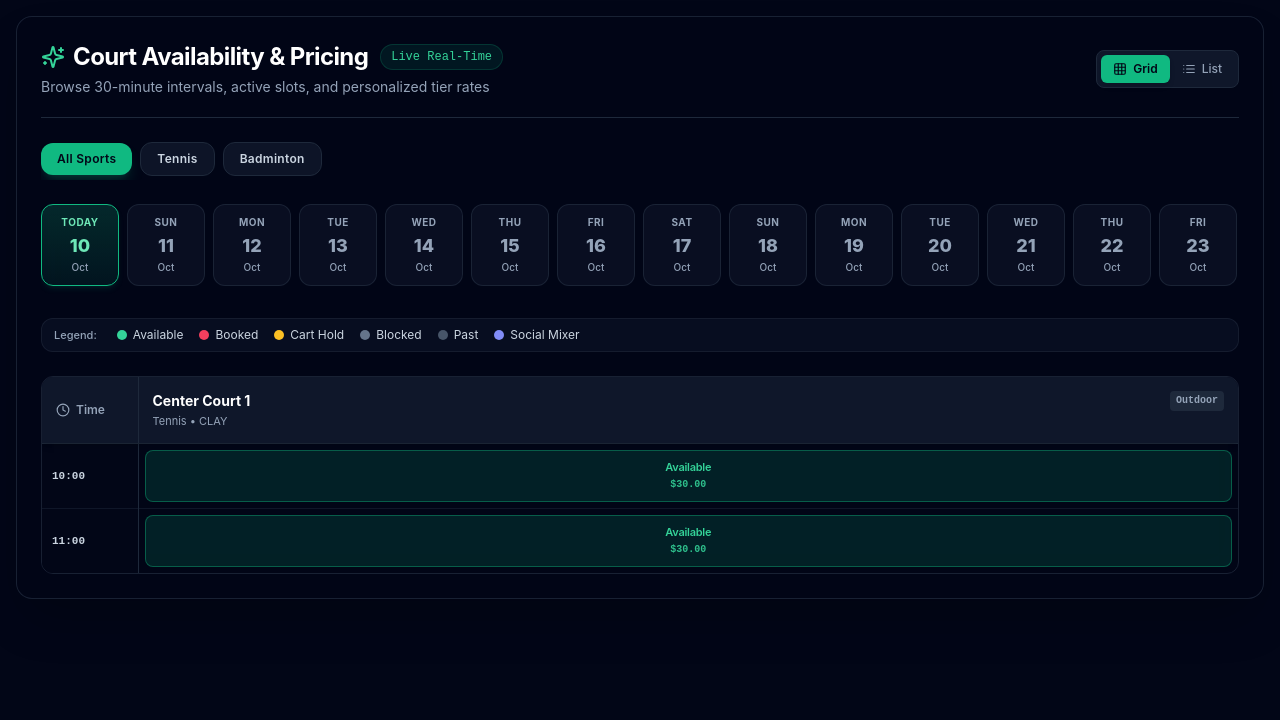
Test case: Booking Engine Frontend Suite › CourtBookingPage - Member Booking Flow & Hold Timer › initiates 5-minute slot hold and displays live countdown badge
expect the text "Center Court 1" is shown: met, box [152,391,250,411]
Click the button "Available $30.00" next to "10:00": (688, 476) [144,450,1232,502]
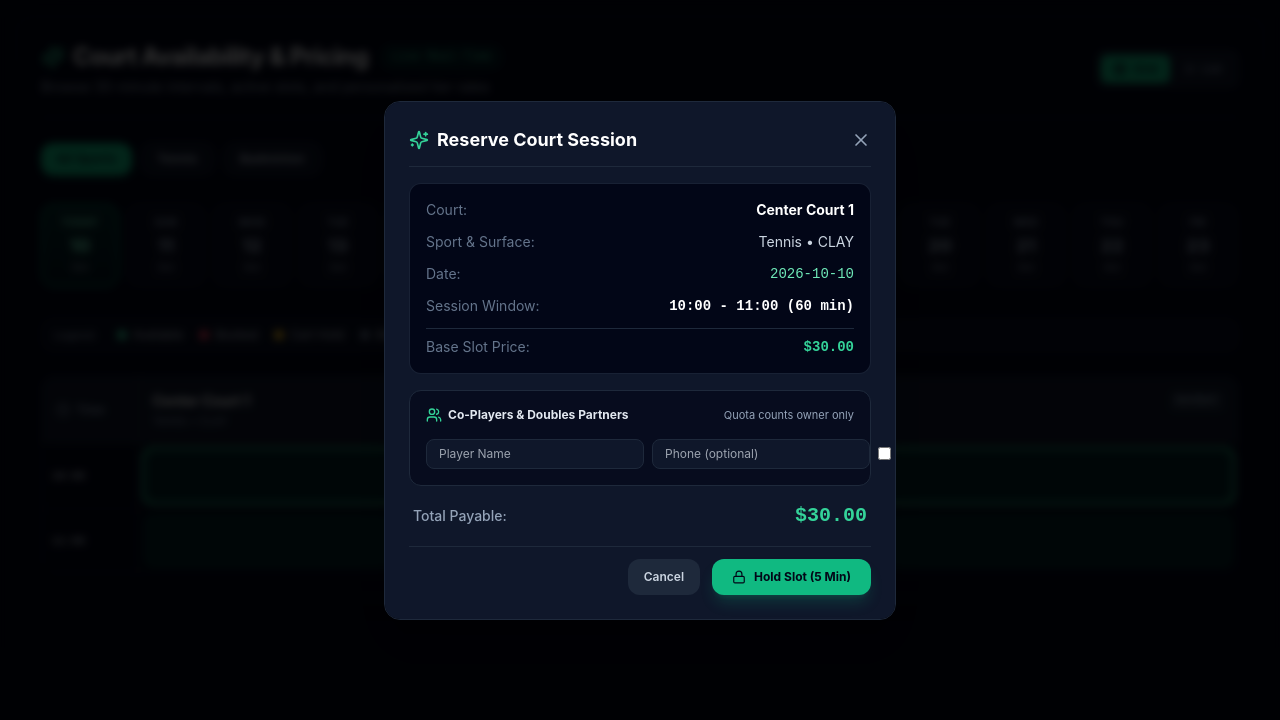
expect the heading "Reserve Court Session" is shown: met, box [409,126,637,154]
Click Hold Slot button
Click the button "Hold Slot (5 Min)": (792, 576) [712,558,871,594]
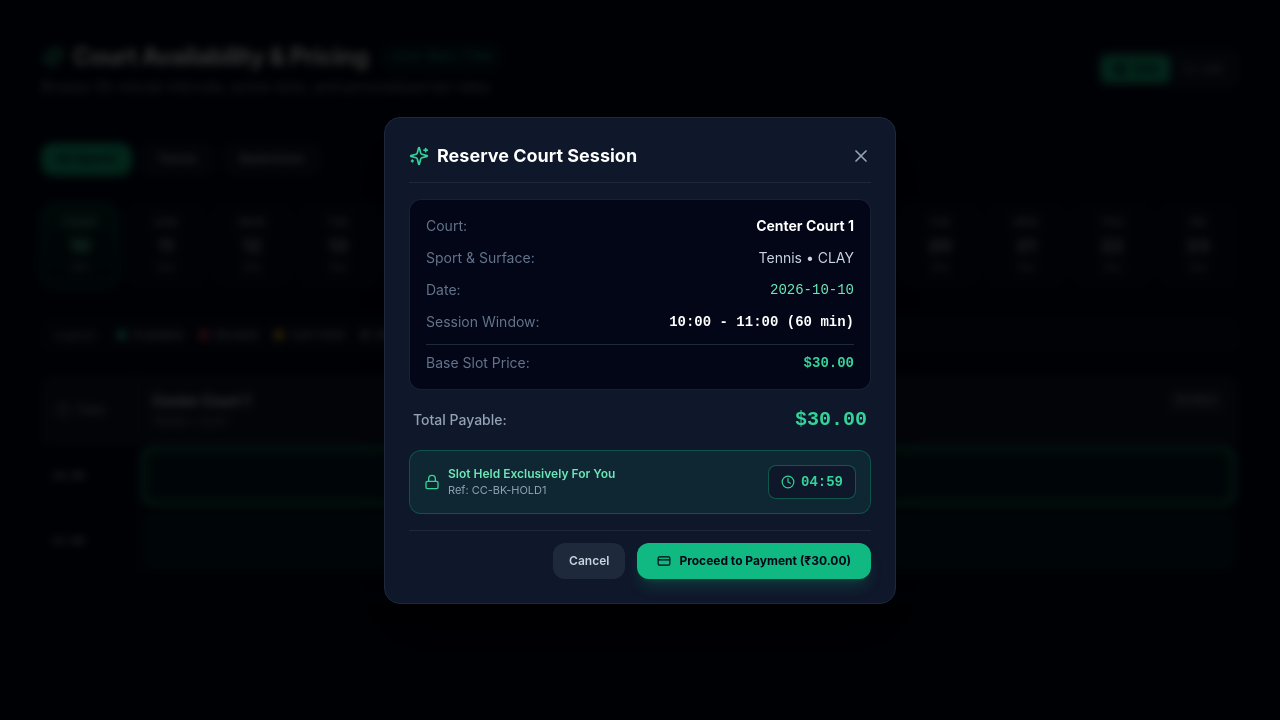
expect the text "Slot Held Exclusively For You" is shown: met, box [448,466,615,482]
expect the text "Ref: CC-BK-HOLD1" is shown: met, box [448,482,546,496]
expect the button "Proceed to Payment (₹30.00)" is shown: met, box [637,542,871,578]
